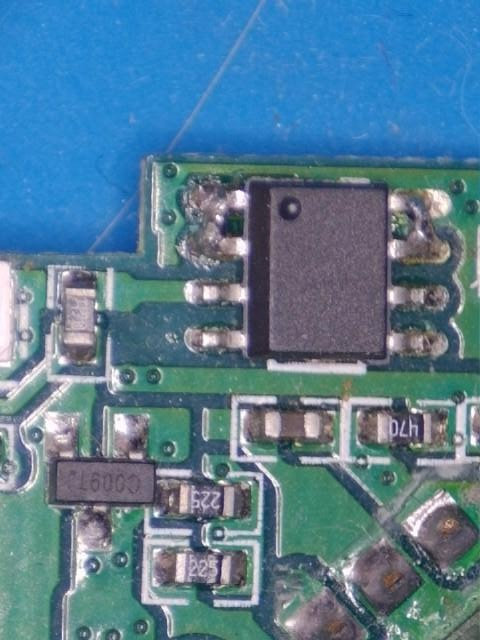pcb_defect: (177, 180, 249, 270), (389, 194, 448, 260)
